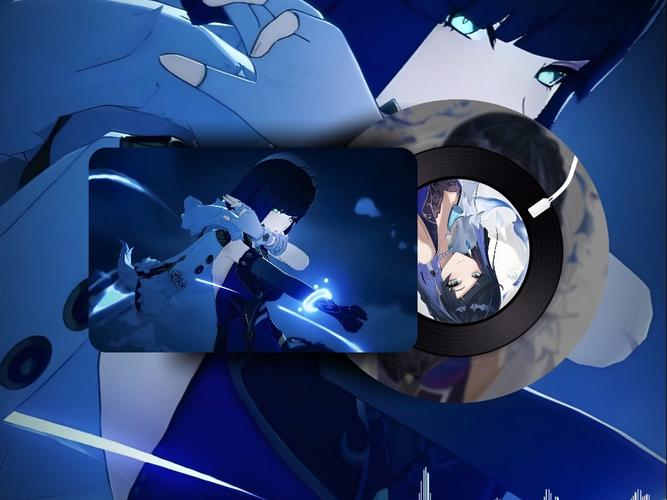夜兰: (143, 1, 656, 129), (201, 161, 373, 354), (410, 183, 529, 322)
